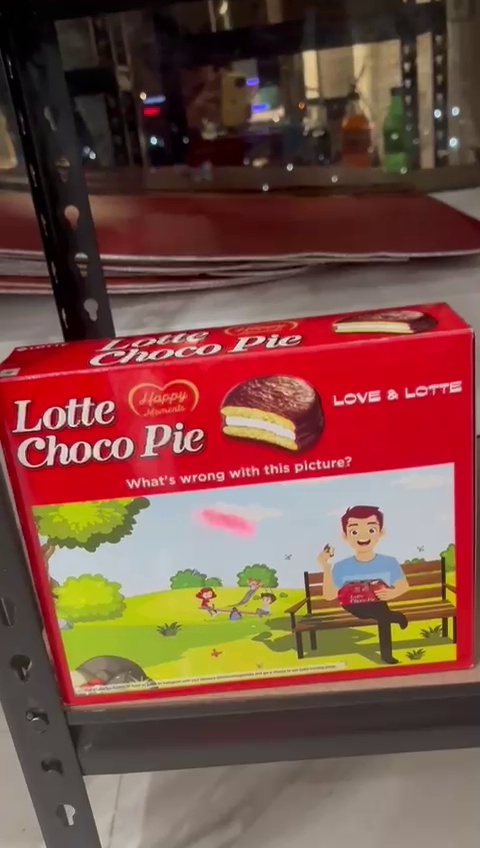Lotte Chocopie: (5, 348, 480, 677)
